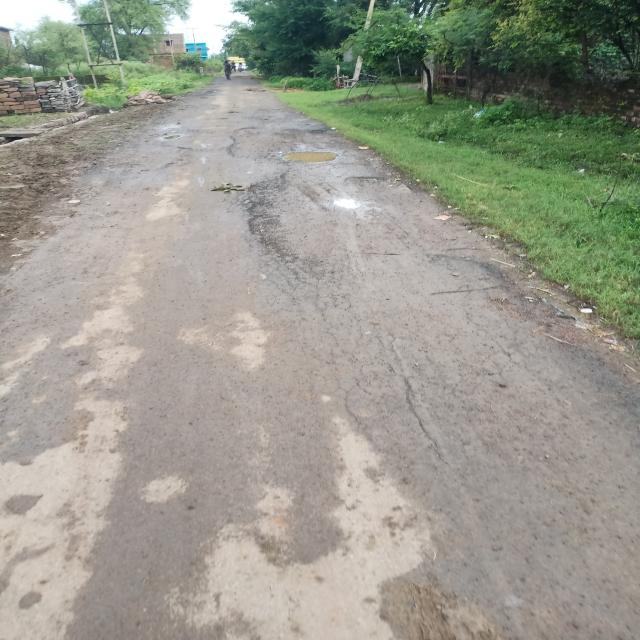potholes: (334, 172, 397, 222), (265, 147, 344, 168), (166, 119, 188, 143), (241, 83, 269, 97)
